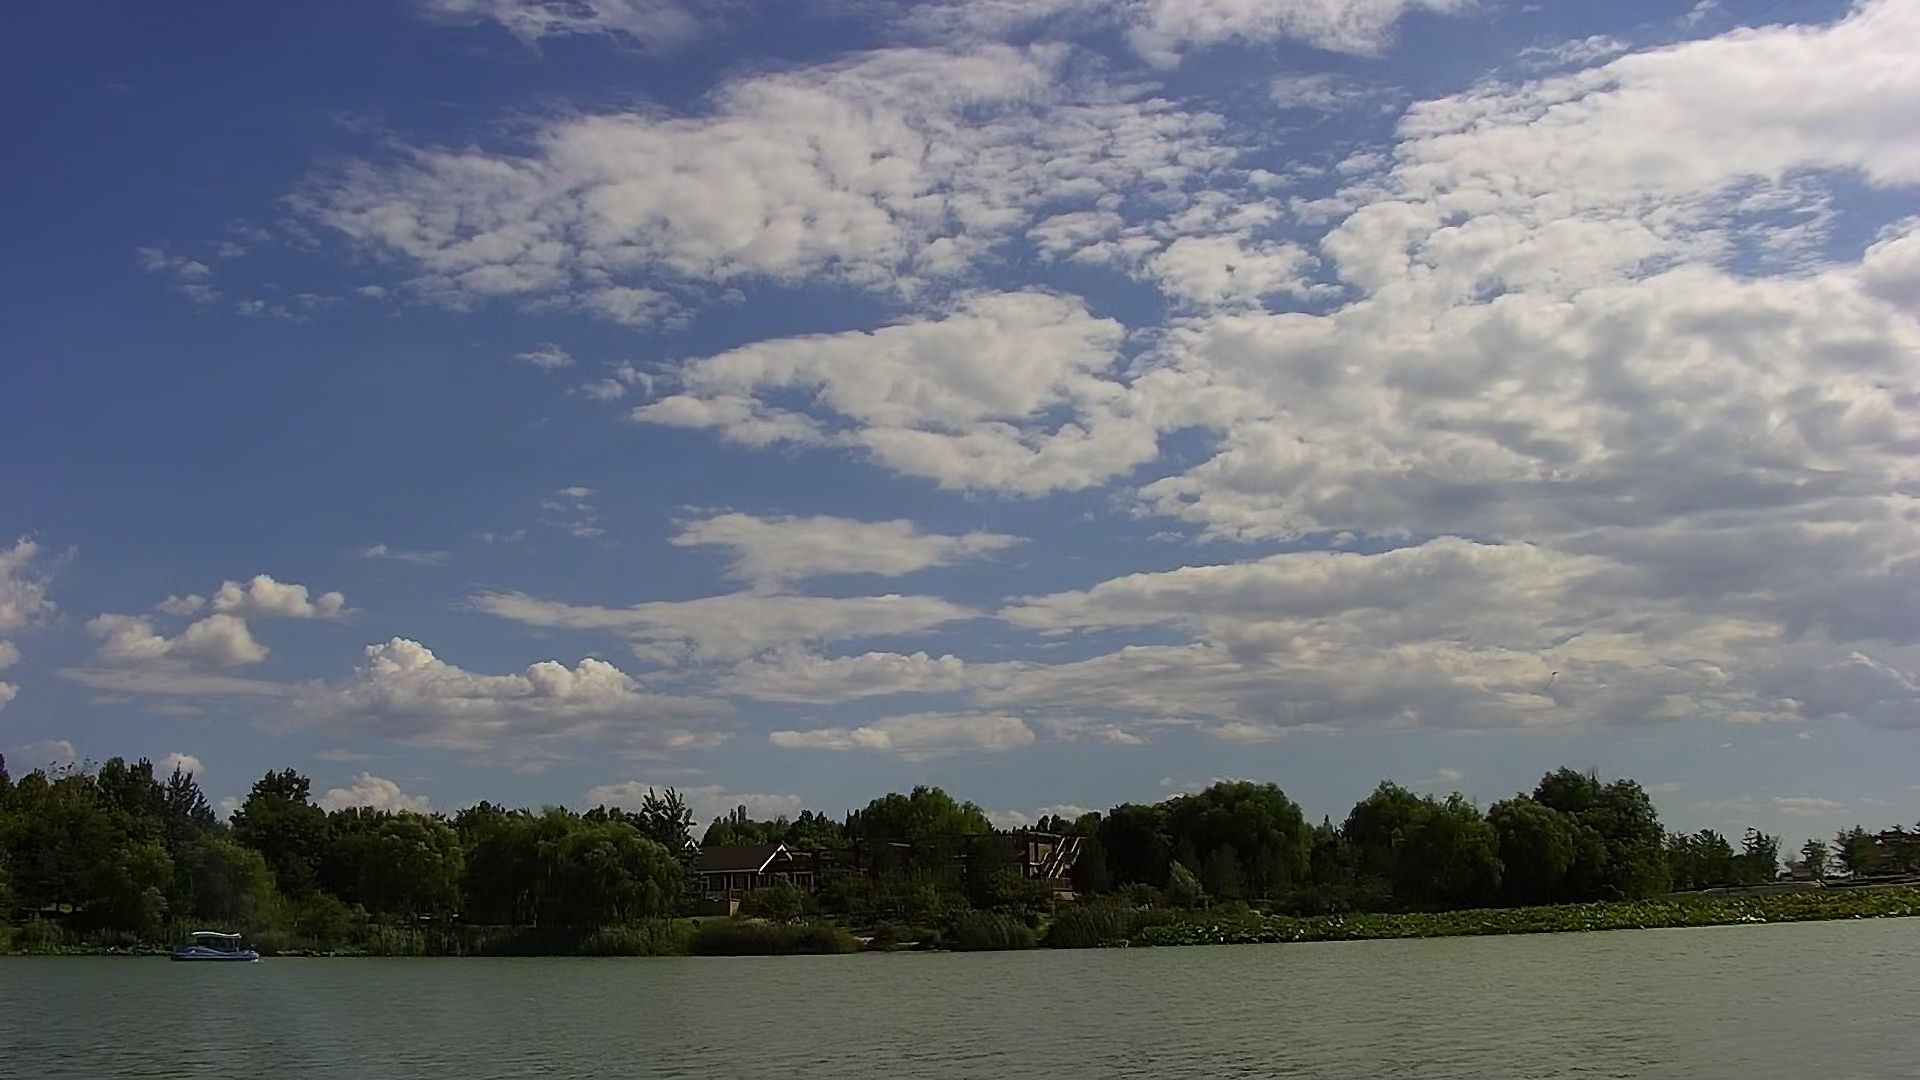boat: (173, 928, 252, 967)
grass: (1254, 890, 1920, 930)
